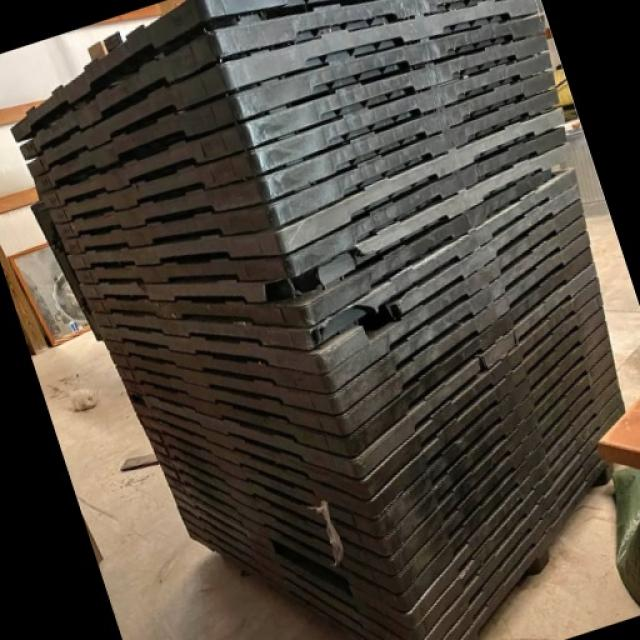non-igps: (161, 361, 623, 626), (147, 318, 612, 571), (150, 334, 616, 586), (170, 385, 627, 640), (123, 242, 599, 486), (139, 303, 609, 549), (134, 289, 607, 529), (128, 272, 603, 507), (27, 5, 556, 208), (112, 227, 592, 448), (33, 22, 556, 222), (107, 212, 594, 420), (99, 195, 587, 402), (23, 0, 551, 189), (44, 46, 567, 235), (95, 179, 586, 380), (86, 160, 584, 357), (50, 61, 561, 249), (60, 100, 571, 278), (57, 84, 564, 263), (74, 135, 570, 317), (70, 121, 572, 294), (80, 159, 560, 339), (16, 0, 495, 168), (6, 0, 338, 151), (175, 501, 407, 640), (180, 513, 388, 640), (185, 525, 370, 640)
